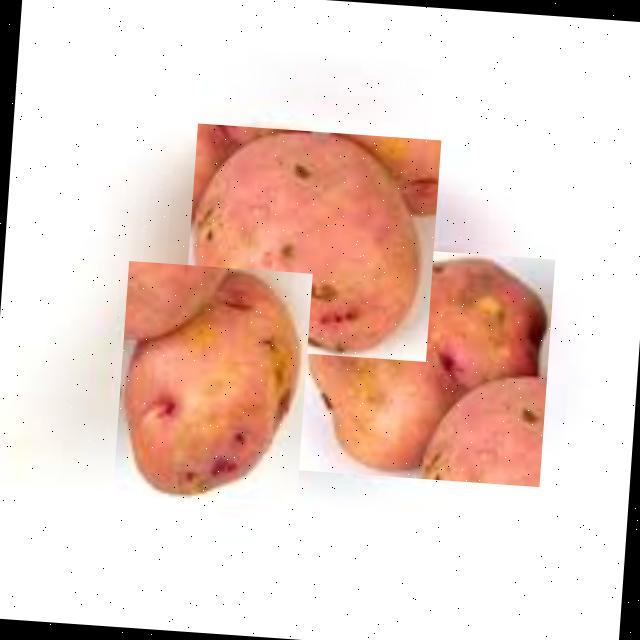Defected potato: (296, 243, 554, 487), (182, 123, 441, 361), (112, 260, 312, 507)
